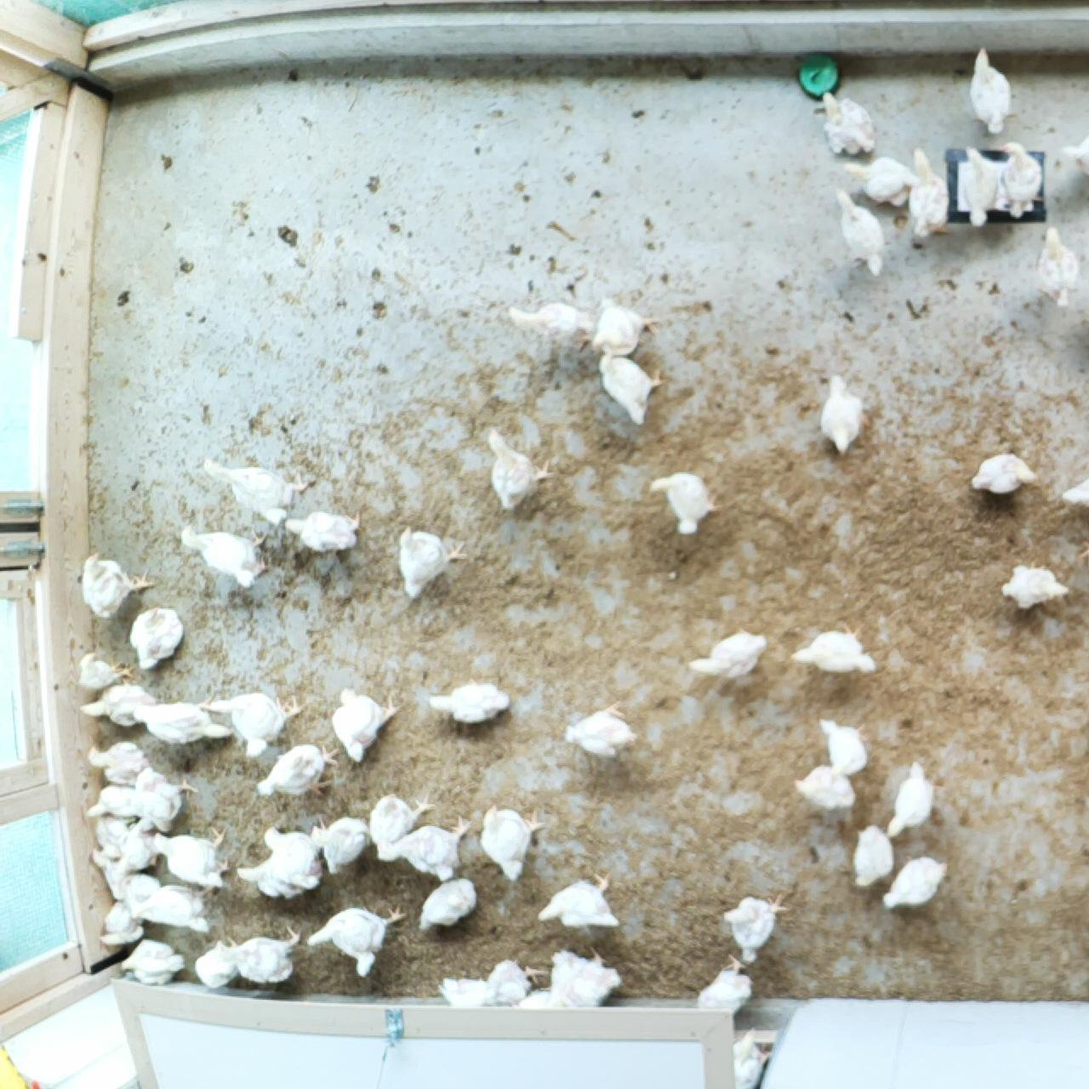chicken: (303, 898, 410, 978), (322, 677, 407, 769), (481, 421, 562, 517), (202, 686, 306, 758), (716, 883, 800, 967), (389, 809, 475, 886), (251, 735, 344, 805), (477, 795, 547, 887), (180, 521, 272, 591), (502, 293, 597, 359), (683, 620, 778, 686), (832, 183, 894, 284), (533, 864, 623, 933), (784, 617, 881, 680), (363, 787, 439, 867), (645, 466, 725, 541), (397, 521, 469, 604), (421, 667, 517, 726), (966, 39, 1022, 140), (815, 367, 875, 461), (149, 825, 235, 889), (817, 82, 883, 165), (561, 701, 646, 765), (128, 698, 232, 750), (127, 762, 199, 837), (593, 348, 663, 425), (79, 551, 156, 620), (907, 143, 959, 243), (225, 921, 306, 984), (885, 752, 940, 843), (308, 809, 379, 879), (261, 818, 325, 894), (553, 941, 624, 1009), (996, 553, 1073, 615), (589, 291, 657, 361), (134, 884, 217, 941), (278, 507, 369, 558), (78, 680, 162, 733), (125, 604, 188, 674), (412, 874, 482, 936), (843, 151, 917, 209), (693, 951, 755, 1020), (789, 758, 865, 814), (882, 852, 952, 912), (115, 934, 189, 990), (82, 739, 160, 792), (963, 445, 1043, 496), (998, 137, 1047, 220), (815, 714, 878, 778), (955, 140, 1000, 229), (846, 821, 898, 891), (718, 1023, 772, 1089), (72, 643, 136, 696), (233, 854, 300, 902), (82, 779, 149, 826), (489, 957, 547, 1009), (97, 895, 146, 947), (433, 971, 496, 1011), (193, 934, 238, 990), (121, 810, 158, 876), (86, 844, 131, 895), (520, 985, 567, 1018), (1059, 126, 1089, 177), (1056, 471, 1089, 514), (95, 813, 133, 846)
